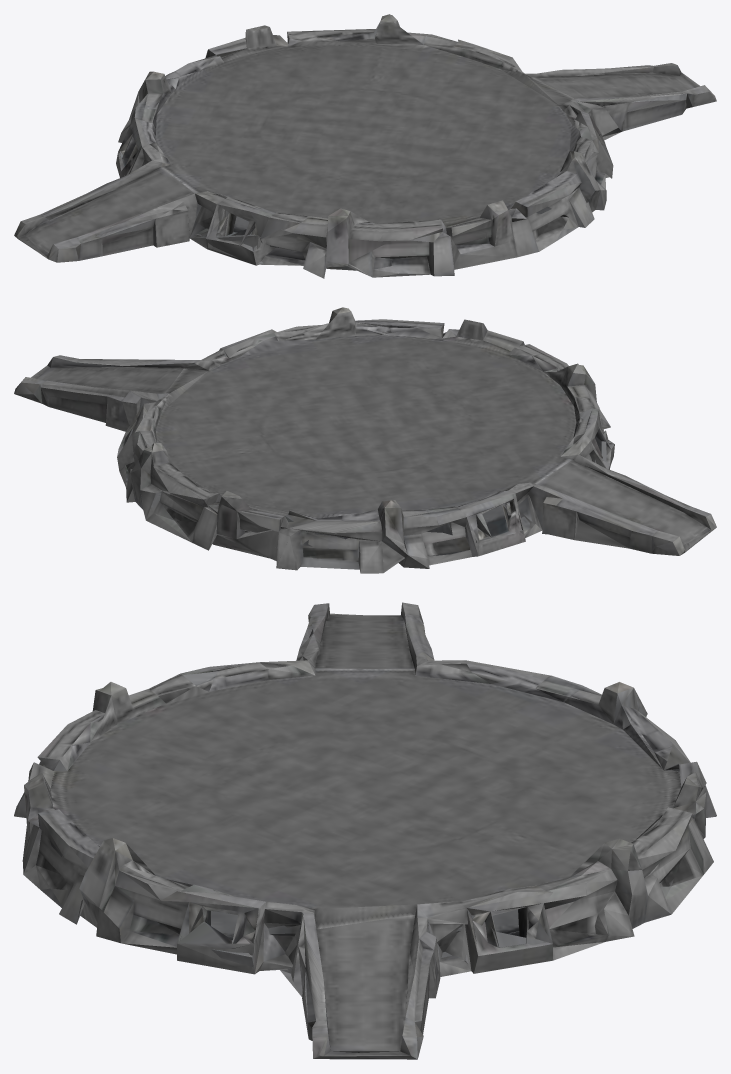
File: imperial_capital_landing_pad_set_lod2.glb
3 renders of one model, top to bottom at view 1: azimuth 30°, elevation 25°; view 2: azimuth 150°, elevation 25°; view 3: azimuth 270°, elevation 25°, orthographic. The views are drawn at different scales.
Parts seen in each view (by area): view 1: mesh_node; view 2: mesh_node; view 3: mesh_node.
Boxes of the visible parts, box(x1,y1,x2,y2) form: mesh_node: box(14, 14, 716, 278); mesh_node: box(14, 307, 716, 573); mesh_node: box(14, 602, 716, 1059).
Bounding box in the file's own units: 71.4 × 6.25 × 47.85.
1 material, 1 textured.
